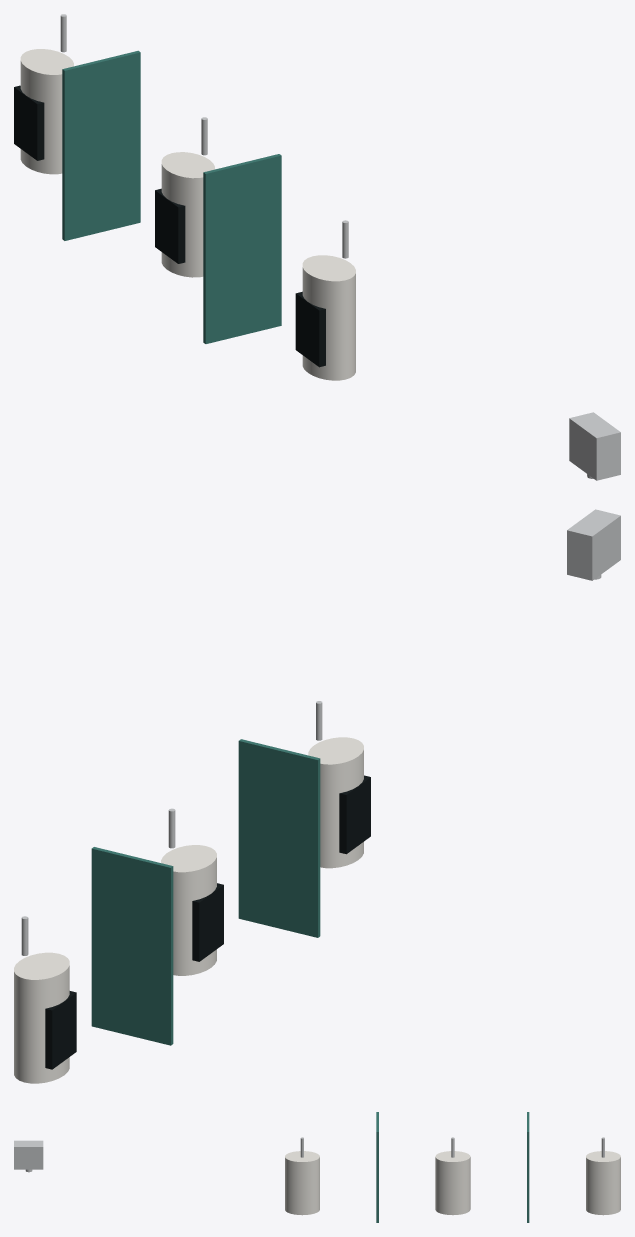
The model's file is SM_80s_BathUrinals.glb.
The picture shows the model from 3 angles, top to bottom: view 1: azimuth 30°, elevation 25°; view 2: azimuth 150°, elevation 25°; view 3: azimuth 270°, elevation 25°; orthographic projection. The views are drawn at different scales.
Visible parts, largest first — view 1: SM_80s_BathUrinals; view 2: SM_80s_BathUrinals; view 3: SM_80s_BathUrinals.
Boxes of the visible parts, box(x1,y1,x2,y2) form: SM_80s_BathUrinals: box(14, 14, 620, 480); SM_80s_BathUrinals: box(14, 509, 620, 1083); SM_80s_BathUrinals: box(14, 1112, 620, 1222).
Bounding box in the file's own units: 0.56 × 1.2 × 7.26.
